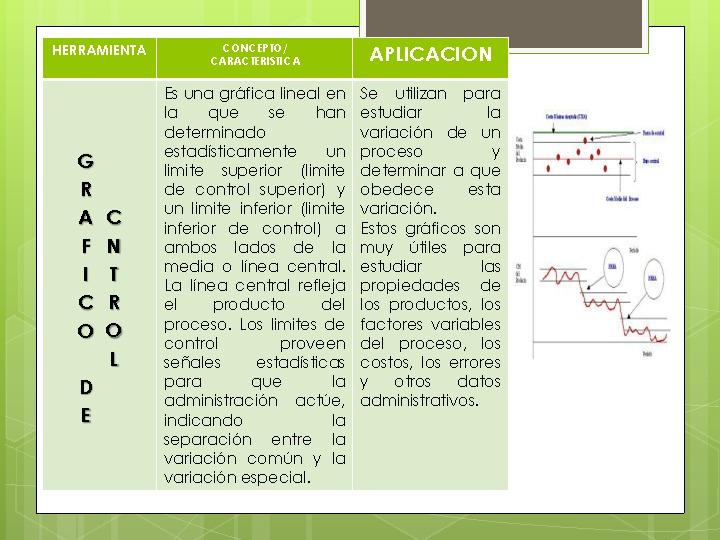paragraph: (160, 78, 513, 487)
subtitle: (365, 37, 497, 82), (187, 31, 309, 76), (40, 31, 158, 66)
